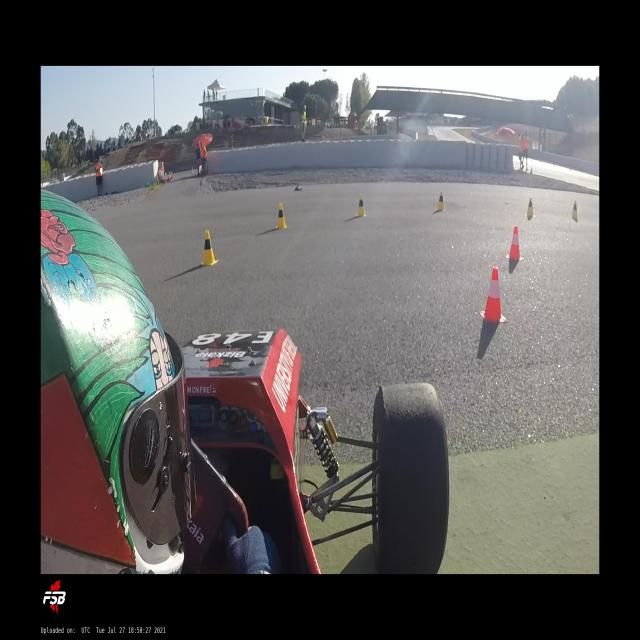orange_cone: (479, 265, 507, 323), (506, 225, 524, 260)
yellow_cone: (200, 230, 219, 266), (275, 202, 287, 228), (356, 193, 366, 216), (525, 196, 535, 217), (436, 189, 445, 211), (571, 201, 579, 220)
